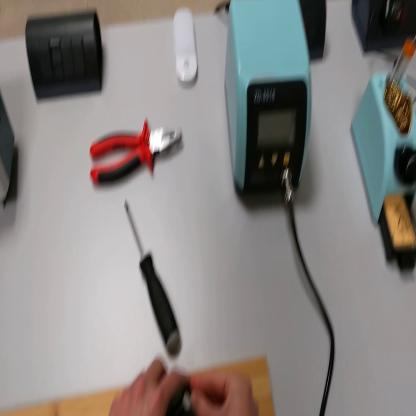hand: (111, 356, 184, 414), (190, 362, 256, 412)
high voltage board: (166, 391, 190, 415)
oscilloscope: (2, 83, 18, 207)
pliers: (89, 115, 186, 187)
screwdriver-: (123, 200, 182, 352)
socket: (354, 2, 416, 58), (292, 4, 329, 62)
welder base: (346, 38, 415, 278)
welder station: (225, 3, 315, 210)
working area: (2, 365, 271, 415)
